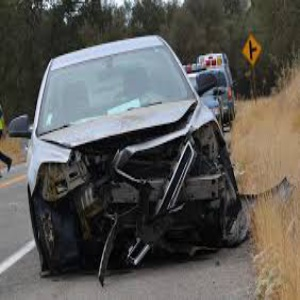bumper: (86, 144, 212, 264)
